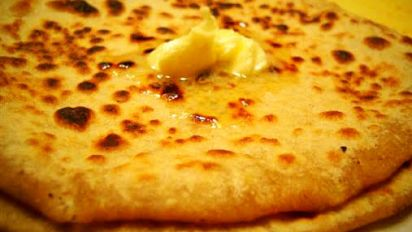aloo_paratha: (2, 1, 411, 227)
